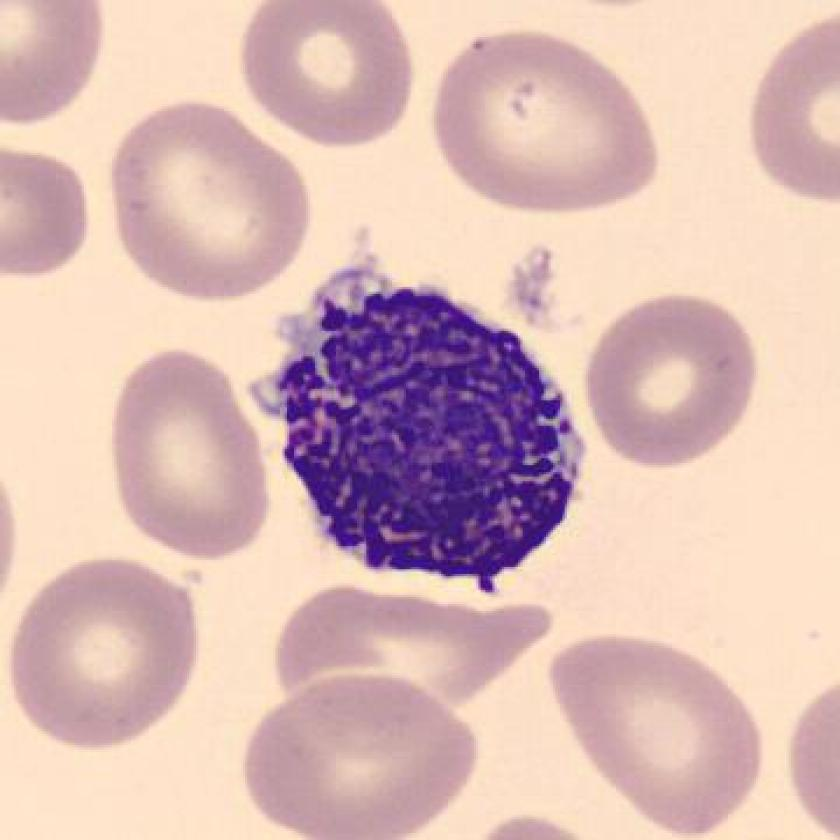basophil: (265, 258, 591, 598)
